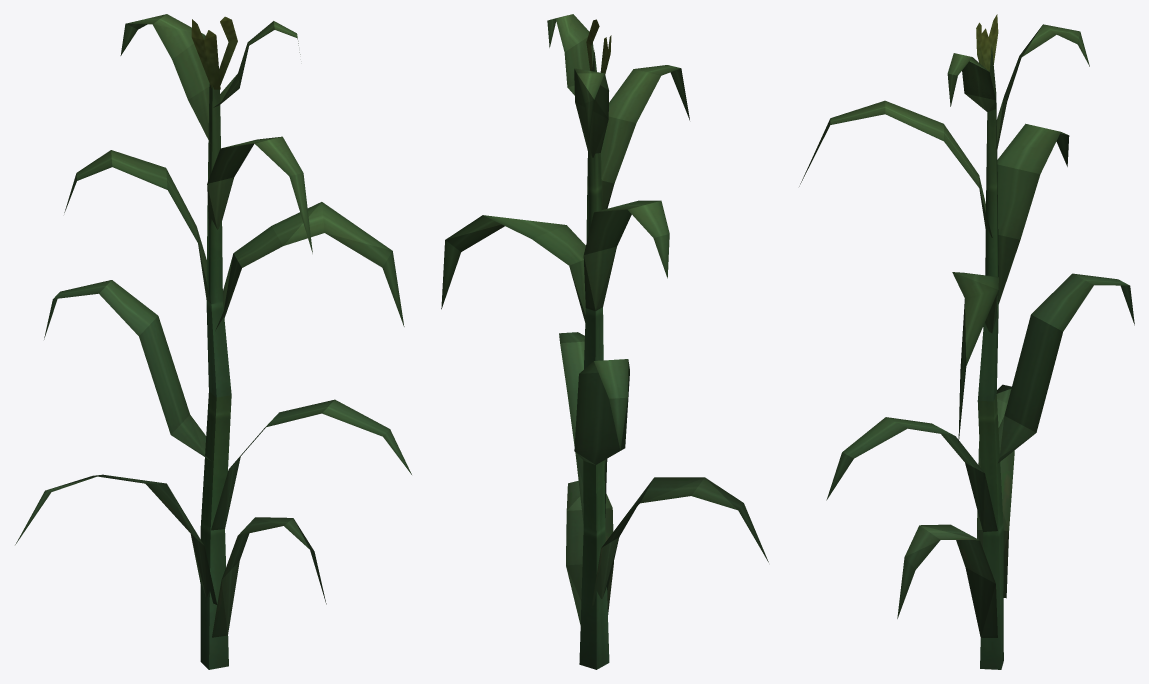
File: gardenbed_corn1.FBX
3 renders of one model, left to right at view 1: azimuth 30°, elevation 25°; view 2: azimuth 150°, elevation 25°; view 3: azimuth 270°, elevation 25°, orthographic.
Parts seen in each view (by area): view 1: gardenbed_corn1; view 2: gardenbed_corn1; view 3: gardenbed_corn1.
Part boxes in pixels (box(x1,y1,x2,y2)): gardenbed_corn1: box(15, 14, 411, 669); gardenbed_corn1: box(441, 14, 768, 669); gardenbed_corn1: box(799, 14, 1134, 669).
Size of the model in its own units: 0.7054 by 1.21 by 0.5739.
Materials: 1 (1 with a texture image).
